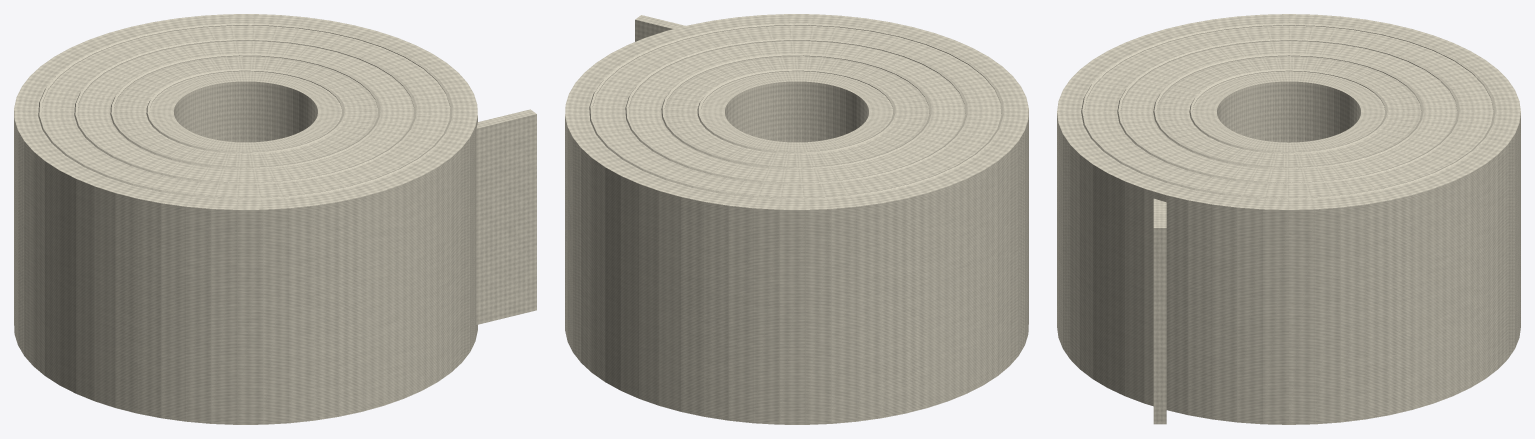
Rendered from 01_Bandage_Roll_90mm.glb.
3 views of the same model, side by side, from view 1: azimuth 30°, elevation 25°; view 2: azimuth 150°, elevation 25°; view 3: azimuth 270°, elevation 25° (orthographic).
Parts seen in each view (by area): view 1: BANDAGE90_OuterWrap_ClosedAnnulus, BANDAGE90_ExposedFabricTail, BANDAGE90_RolledFabricConcentricRings; view 2: BANDAGE90_OuterWrap_ClosedAnnulus, BANDAGE90_RolledFabricConcentricRings, BANDAGE90_ExposedFabricTail; view 3: BANDAGE90_OuterWrap_ClosedAnnulus, BANDAGE90_RolledFabricConcentricRings, BANDAGE90_ExposedFabricTail.
Boxes of the visible parts, left/top/right/bottom form: BANDAGE90_OuterWrap_ClosedAnnulus: left=14, top=14, right=477, bottom=424; BANDAGE90_ExposedFabricTail: left=476, top=109, right=536, bottom=324; BANDAGE90_RolledFabricConcentricRings: left=38, top=23, right=453, bottom=199; BANDAGE90_OuterWrap_ClosedAnnulus: left=565, top=14, right=1028, bottom=424; BANDAGE90_RolledFabricConcentricRings: left=589, top=23, right=1004, bottom=199; BANDAGE90_ExposedFabricTail: left=635, top=15, right=685, bottom=41; BANDAGE90_OuterWrap_ClosedAnnulus: left=1057, top=14, right=1520, bottom=424; BANDAGE90_RolledFabricConcentricRings: left=1081, top=23, right=1496, bottom=199; BANDAGE90_ExposedFabricTail: left=1153, top=198, right=1166, bottom=424.
Bounding box in the file's own units: 0.095 × 0.0463 × 0.09.
Materials: 1 (1 with a texture image).
